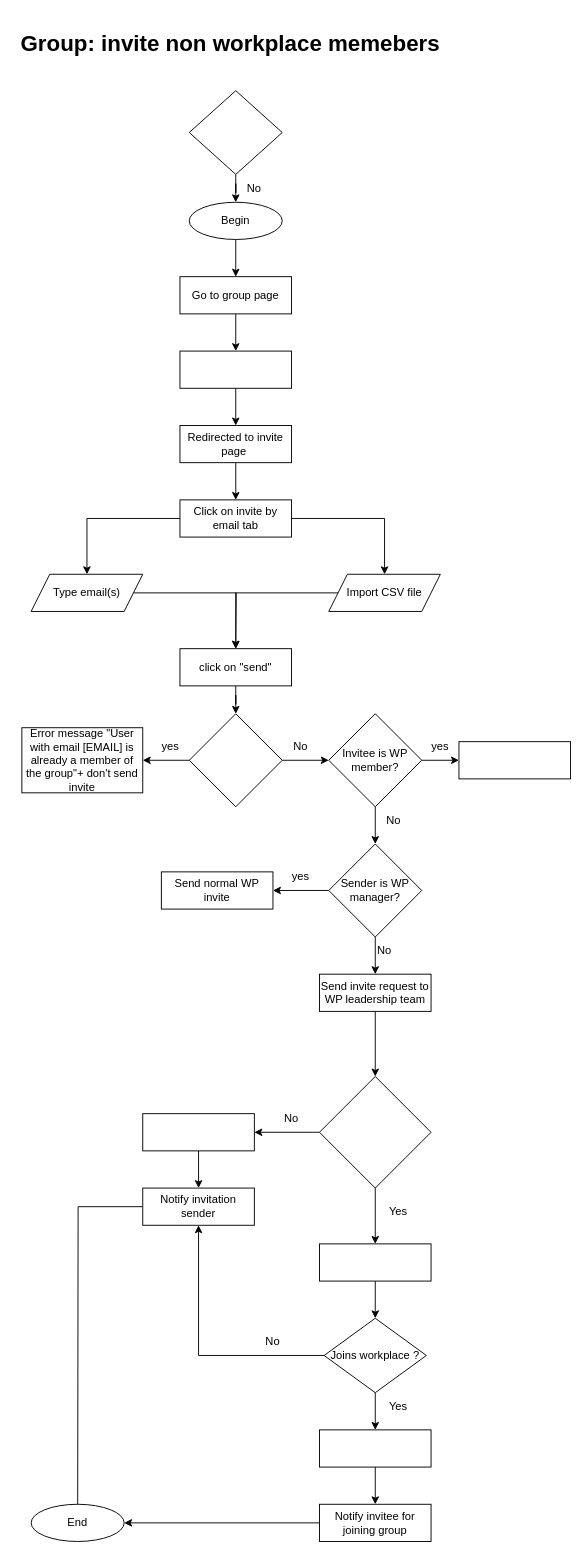
Image size: 587x1558. Some labels were removed from this diagram. Here are the shapes that lost their labels. From the top down, the centre of each, then its label:
(x=235, y=132): SSO organization ?
(x=235, y=369): Click invite button
(x=235, y=760): invitee already group member?
(x=514, y=760): Send normal group invite
(x=198, y=1132): Cancel invitation
(x=375, y=1132): Workplace manager validates ?
(x=375, y=1262): Invitee receives workplace invite
(x=375, y=1448): Invitee joins group
